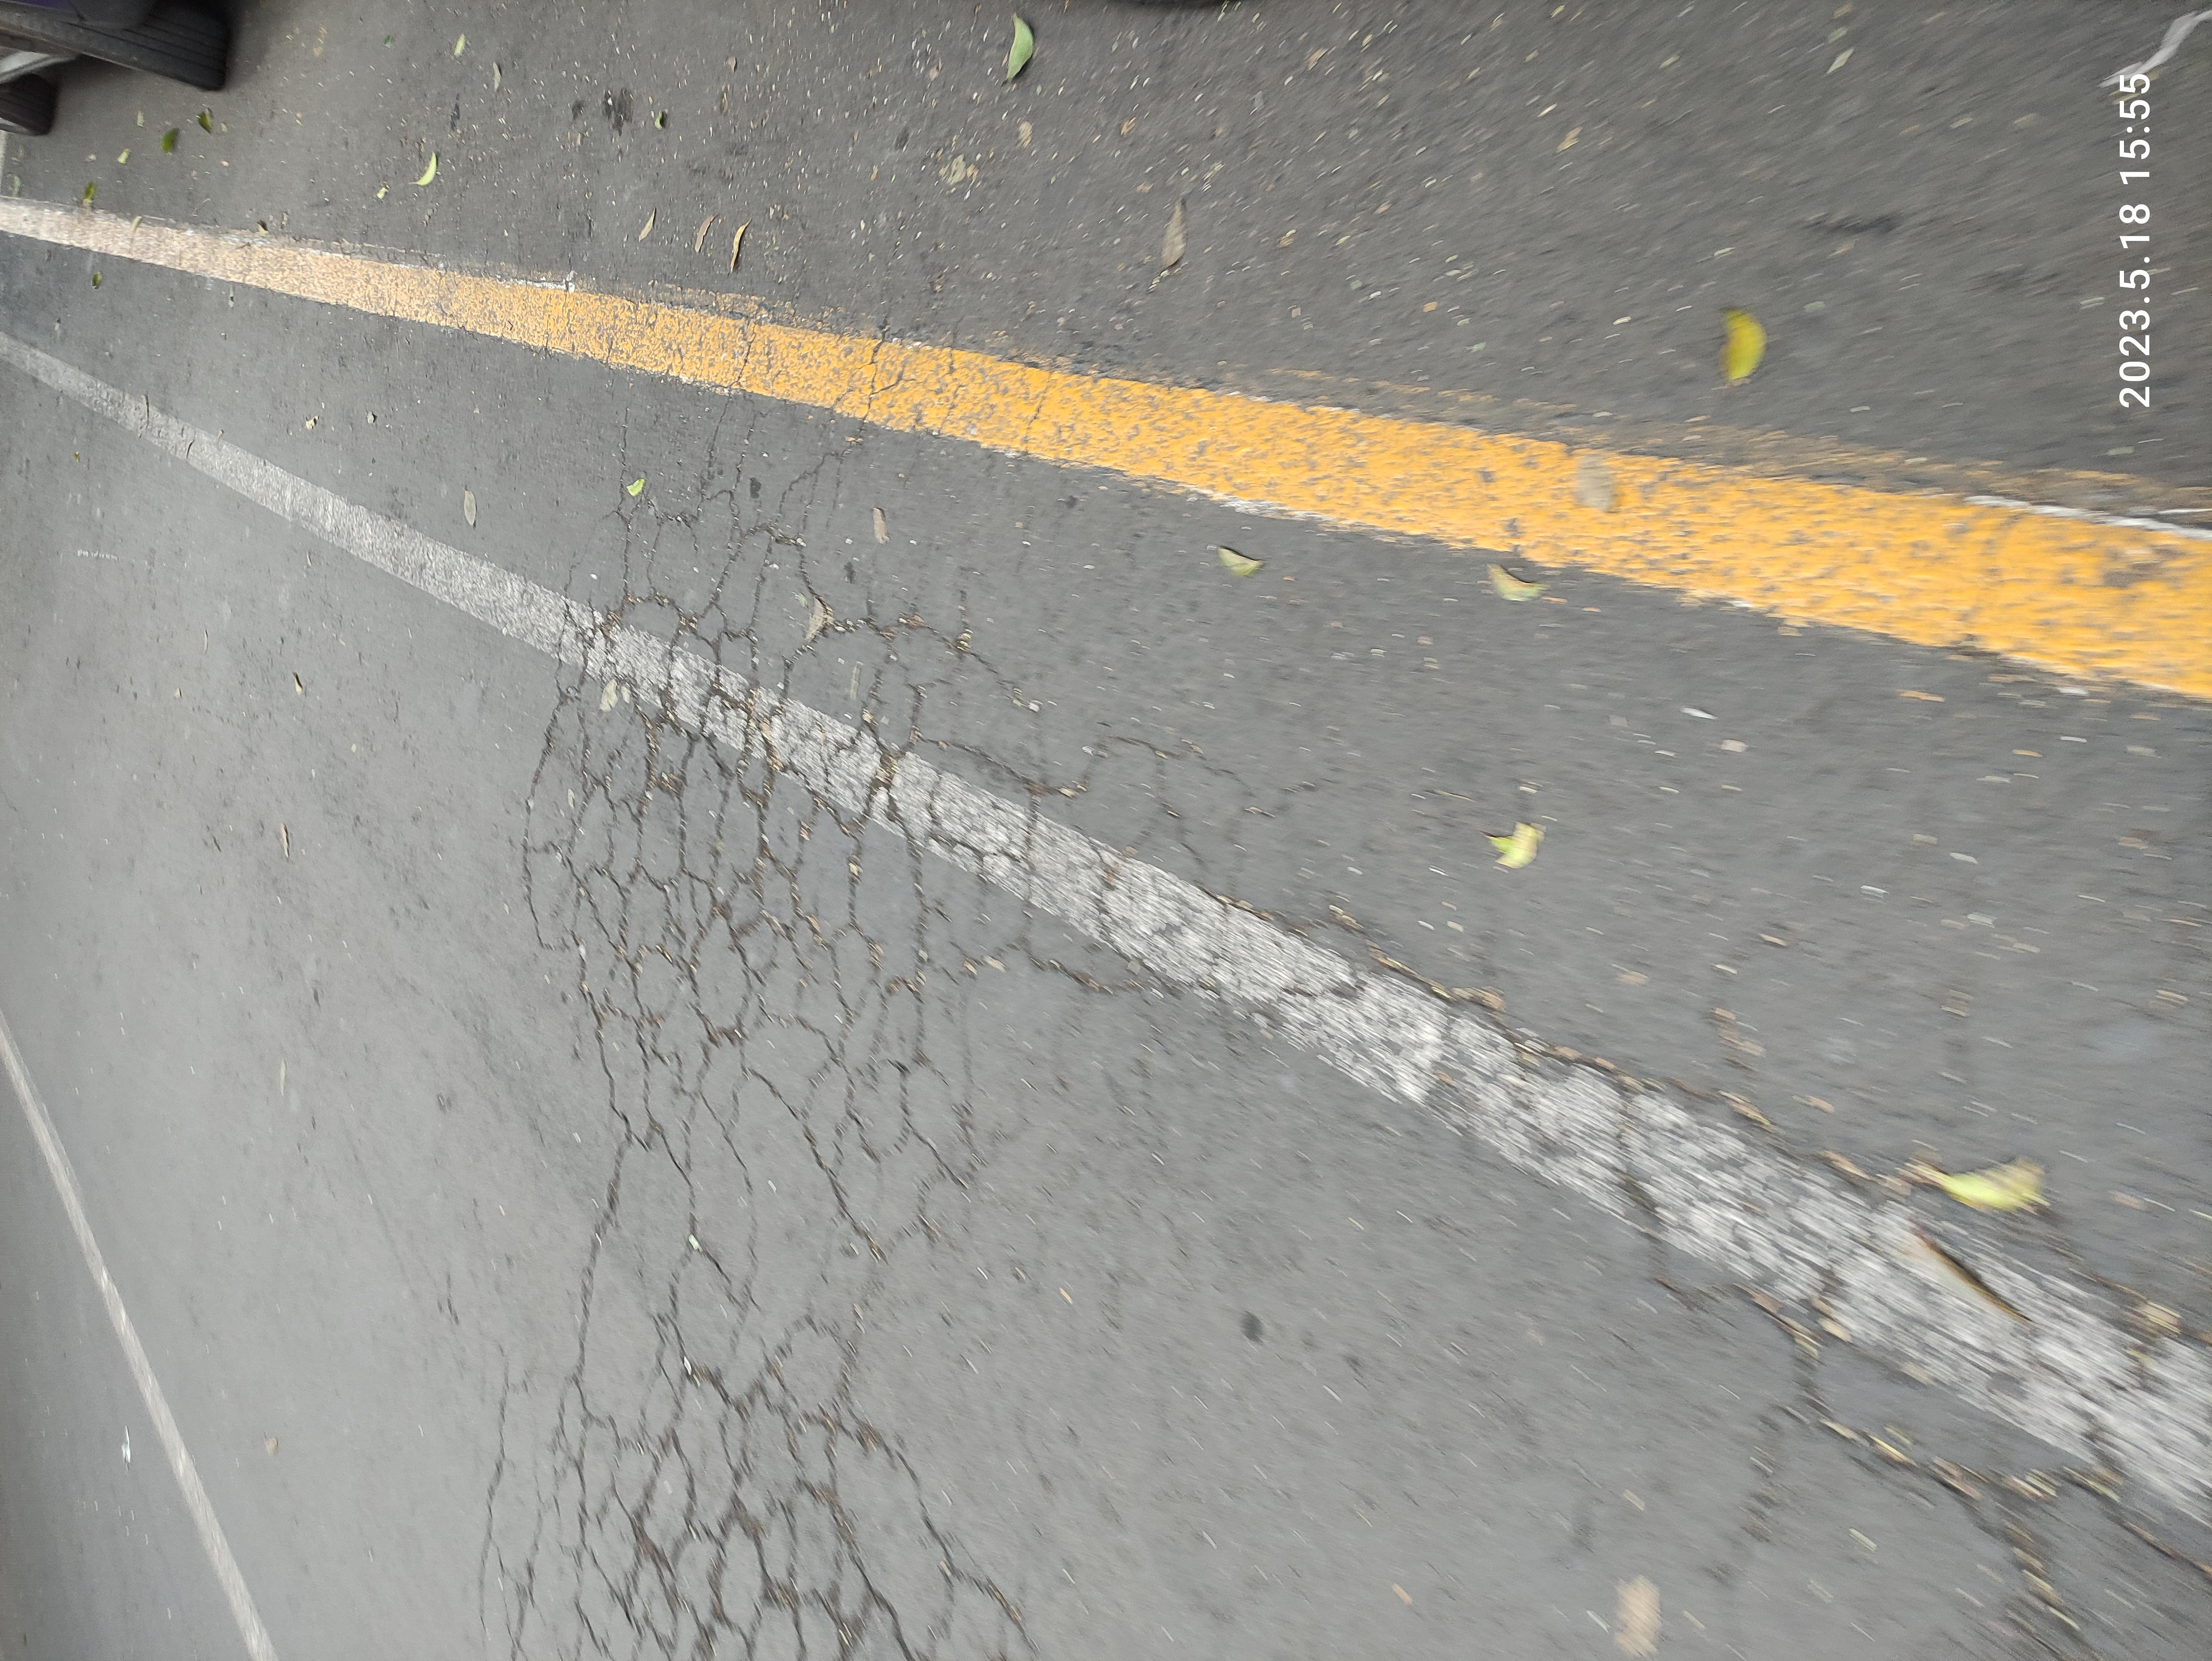alligator-crack: (625, 370, 1561, 865), (0, 356, 447, 776)
